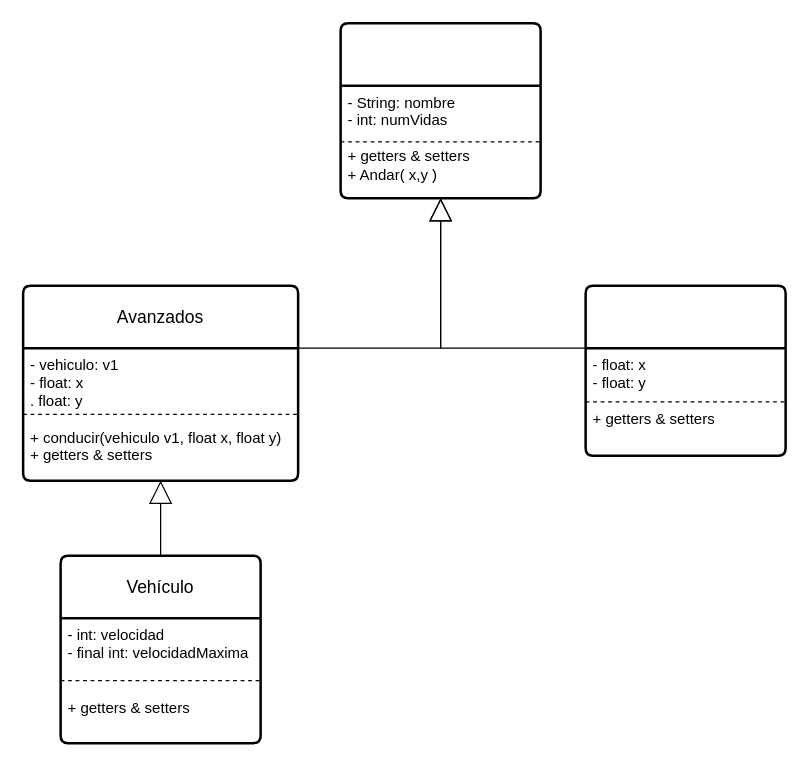
The diagram is 809 pixels wide and 765 high, and some of its shapes have lost their labels. Here are the shapes that lost their labels. From the top down, the box of each, then its label:
(339, 21, 541, 199): Jugadores
(584, 284, 786, 456): Principiantes
